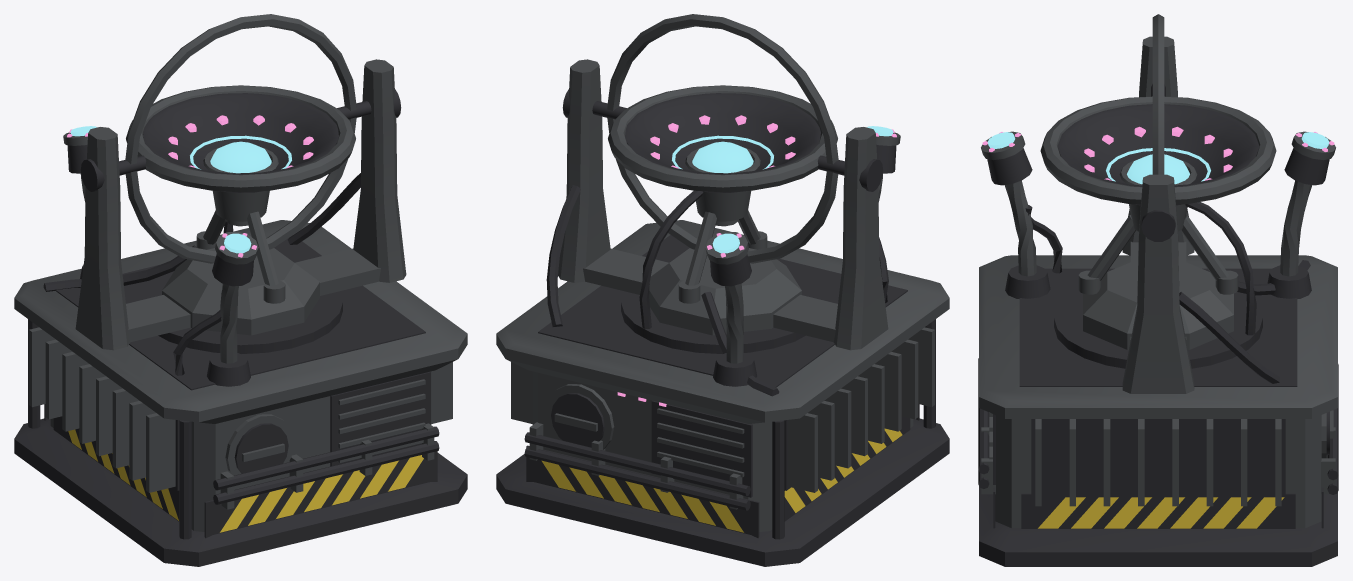
The model's file is projector165.glb.
3 renders of one model, left to right at view 1: azimuth 30°, elevation 25°; view 2: azimuth 150°, elevation 25°; view 3: azimuth 270°, elevation 25°, orthographic. The views are drawn at different scales.
Visible parts, largest first — view 1: p165-metal, p165-dark, p165-stripe, p165-lens, p165-node; view 2: p165-metal, p165-dark, p165-stripe, p165-lens, p165-node; view 3: p165-dark, p165-metal, p165-stripe, p165-lens, p165-node.
Boxes of the visible parts, <box> form: p165-metal: <box>14,14,467,531</box>; p165-dark: <box>14,89,467,566</box>; p165-stripe: <box>68,429,423,532</box>; p165-lens: <box>70,126,291,253</box>; p165-node: <box>67,115,313,257</box>; p165-metal: <box>496,14,949,531</box>; p165-dark: <box>496,89,949,566</box>; p165-stripe: <box>541,428,902,532</box>; p165-lens: <box>672,126,893,253</box>; p165-node: <box>617,115,896,406</box>; p165-dark: <box>978,84,1338,566</box>; p165-metal: <box>979,14,1337,528</box>; p165-stripe: <box>1038,497,1284,528</box>; p165-lens: <box>987,132,1329,184</box>; p165-node: <box>982,126,1334,180</box>.
Size of the model in its own units: 2.2 by 3.14 by 2.21.
